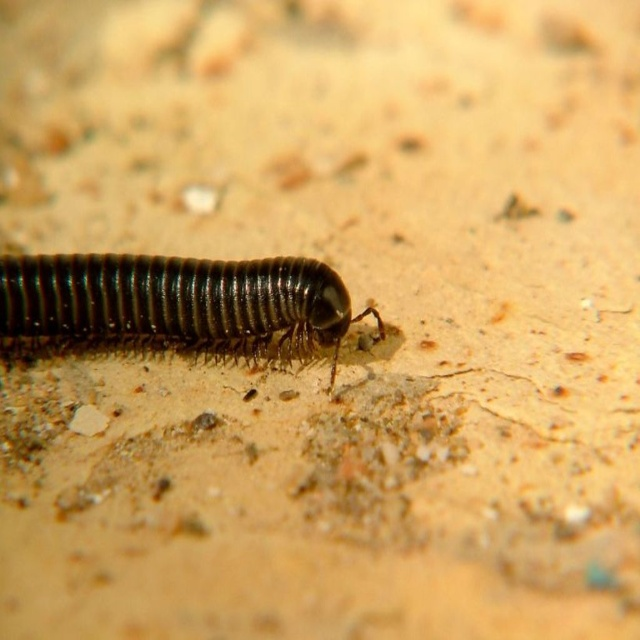Centipede: (0, 249, 386, 392)
